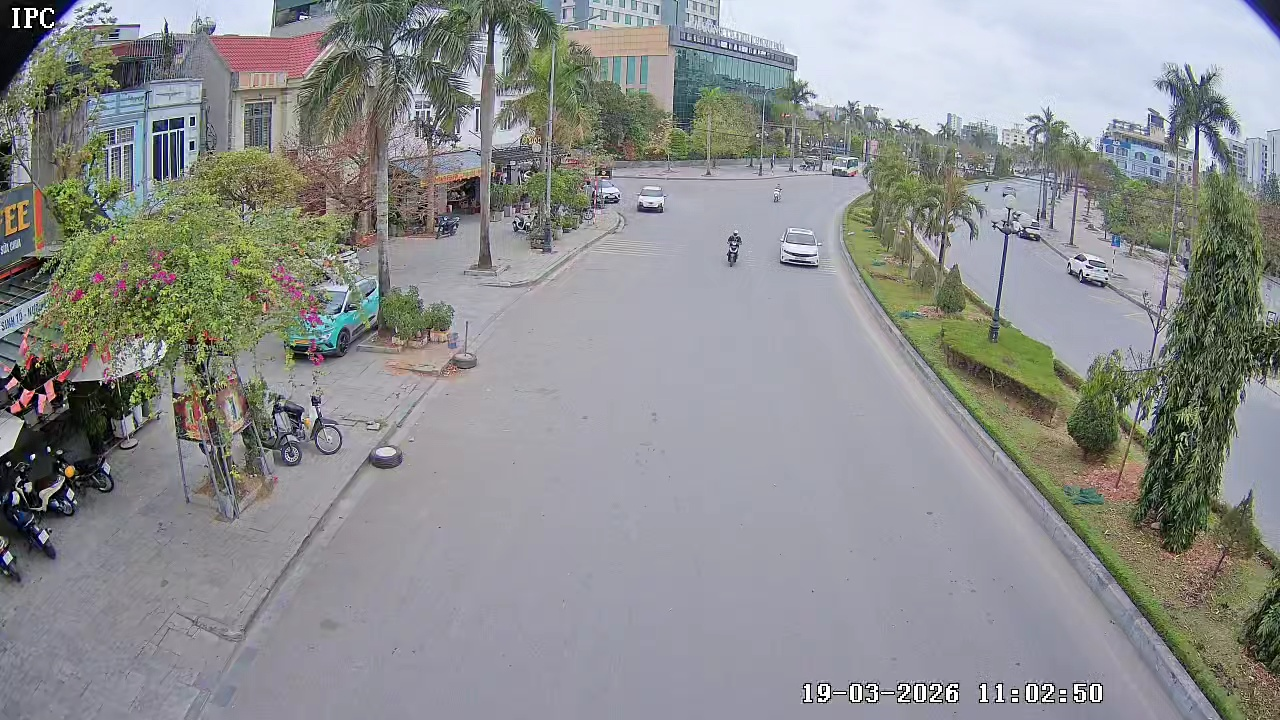bike: (296, 386, 344, 456), (266, 389, 304, 464)
car: (777, 224, 822, 269), (1065, 250, 1112, 289), (635, 186, 667, 213)
motorbike: (0, 527, 24, 585), (723, 227, 743, 267), (771, 179, 785, 204)
